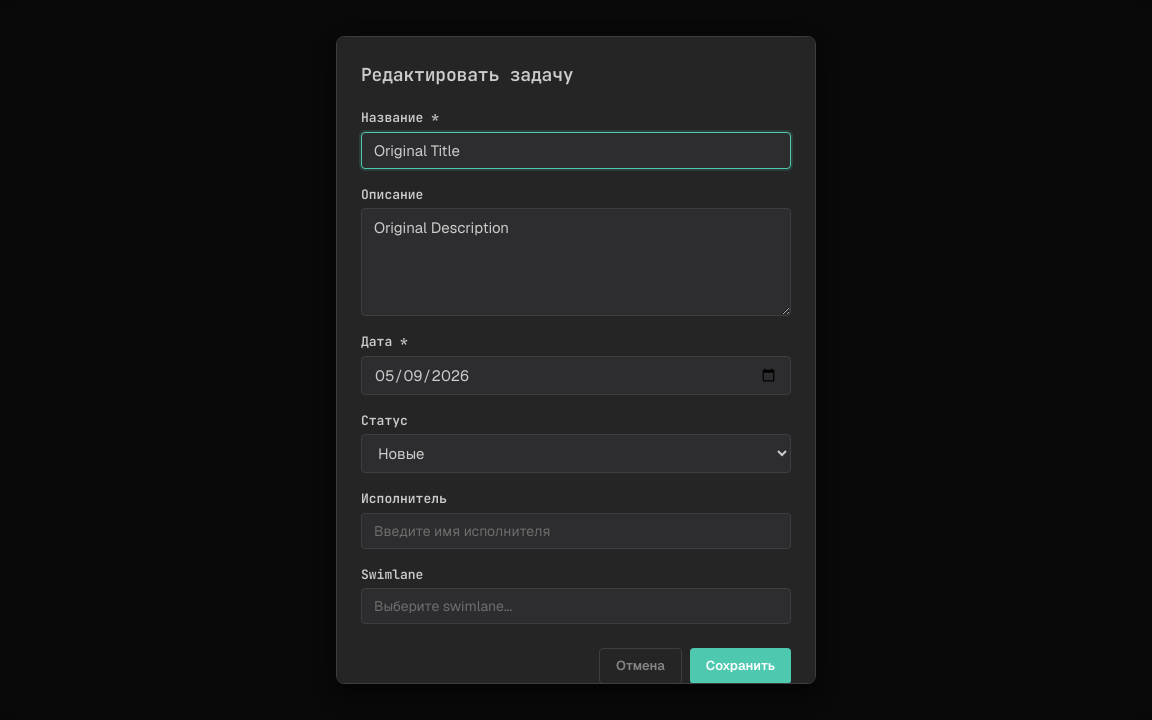
Scenario: EditTask Integration › disables submit button when title is empty
The image size is (1152, 720).
Clear the field with id "edit-task-title" at (576, 150), box [361, 132, 791, 168]
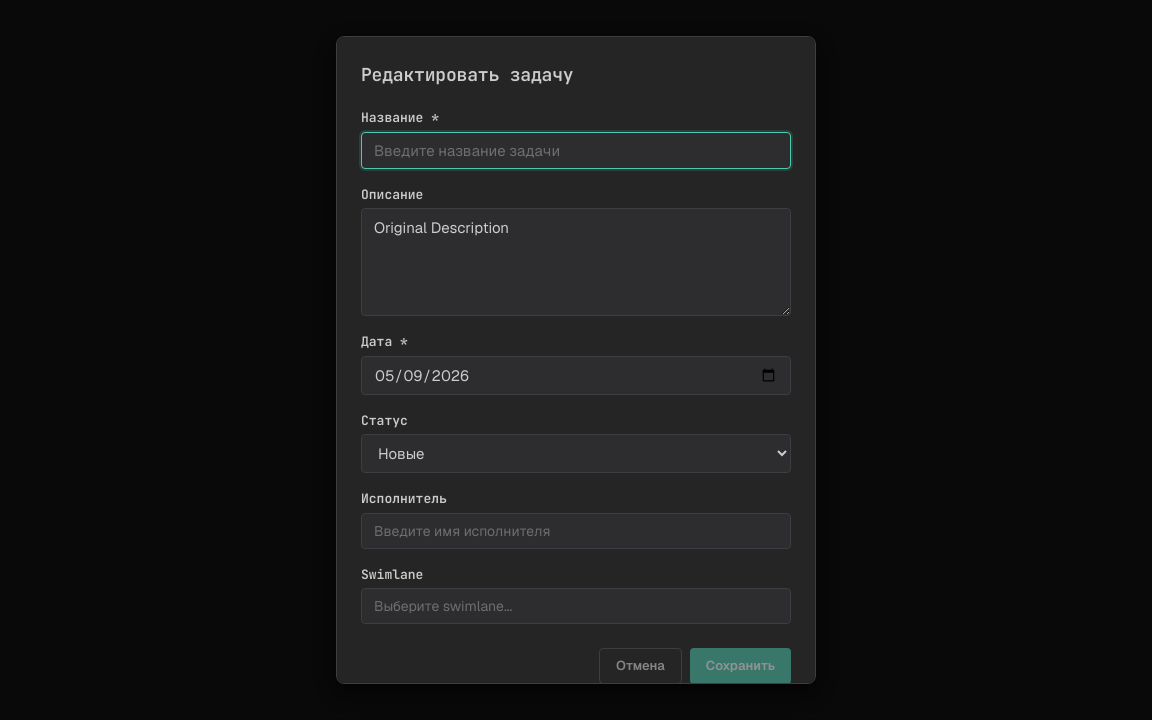
Now the button "Сохранить" is disabled, box [690, 648, 791, 684]
